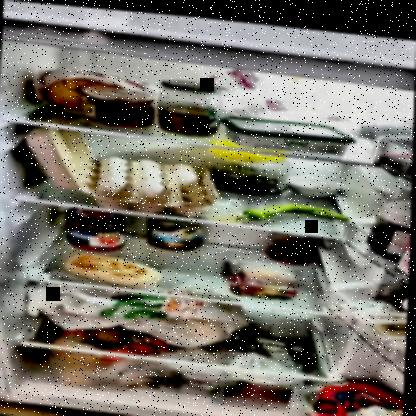cream_cheese: (225, 110, 349, 148)
eggs: (100, 153, 200, 201)
green_chillies: (238, 195, 347, 226)
milk: (357, 396, 405, 415)
olives: (212, 159, 286, 191)
tomato_paste: (85, 84, 155, 125)
